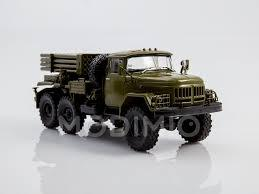MIL_SAM_TEL: (35, 47, 218, 156)
